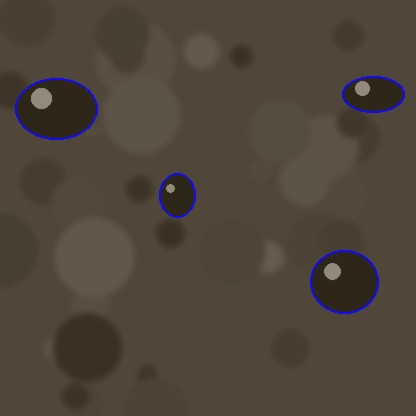gota: (15, 80, 97, 144), (310, 252, 378, 318), (342, 77, 404, 115), (159, 175, 195, 221)
